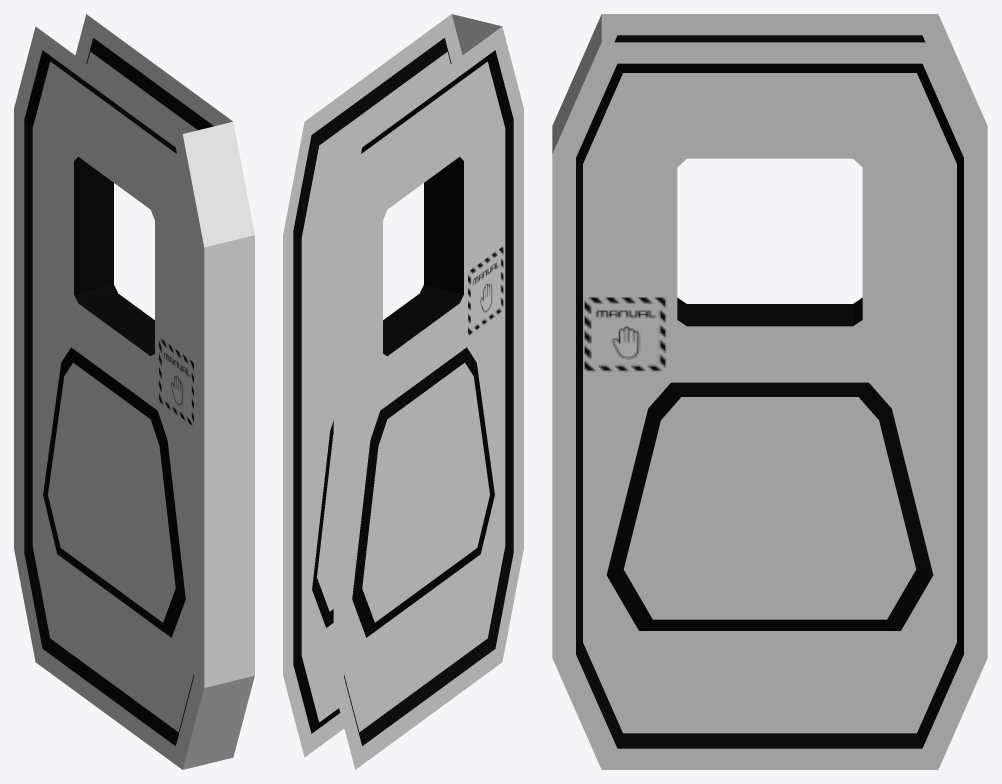
File: Waterproof-door.glb
3 renders of one model, left to right at view 1: azimuth 30°, elevation 25°; view 2: azimuth 150°, elevation 25°; view 3: azimuth 270°, elevation 25°, orthographic. The views are drawn at different scales.
Visible parts, largest first — view 1: Waterproof Door.002; view 2: Waterproof Door.002; view 3: Waterproof Door.002.
Boxes of the visible parts, x1,y1,x2,y2 form: Waterproof Door.002: (14,14,254,769); Waterproof Door.002: (283,14,523,769); Waterproof Door.002: (552,14,987,769).
Size of the model in its own units: 0.1945 by 2.33 by 1.26.
Materials: 1 (1 with a texture image).
